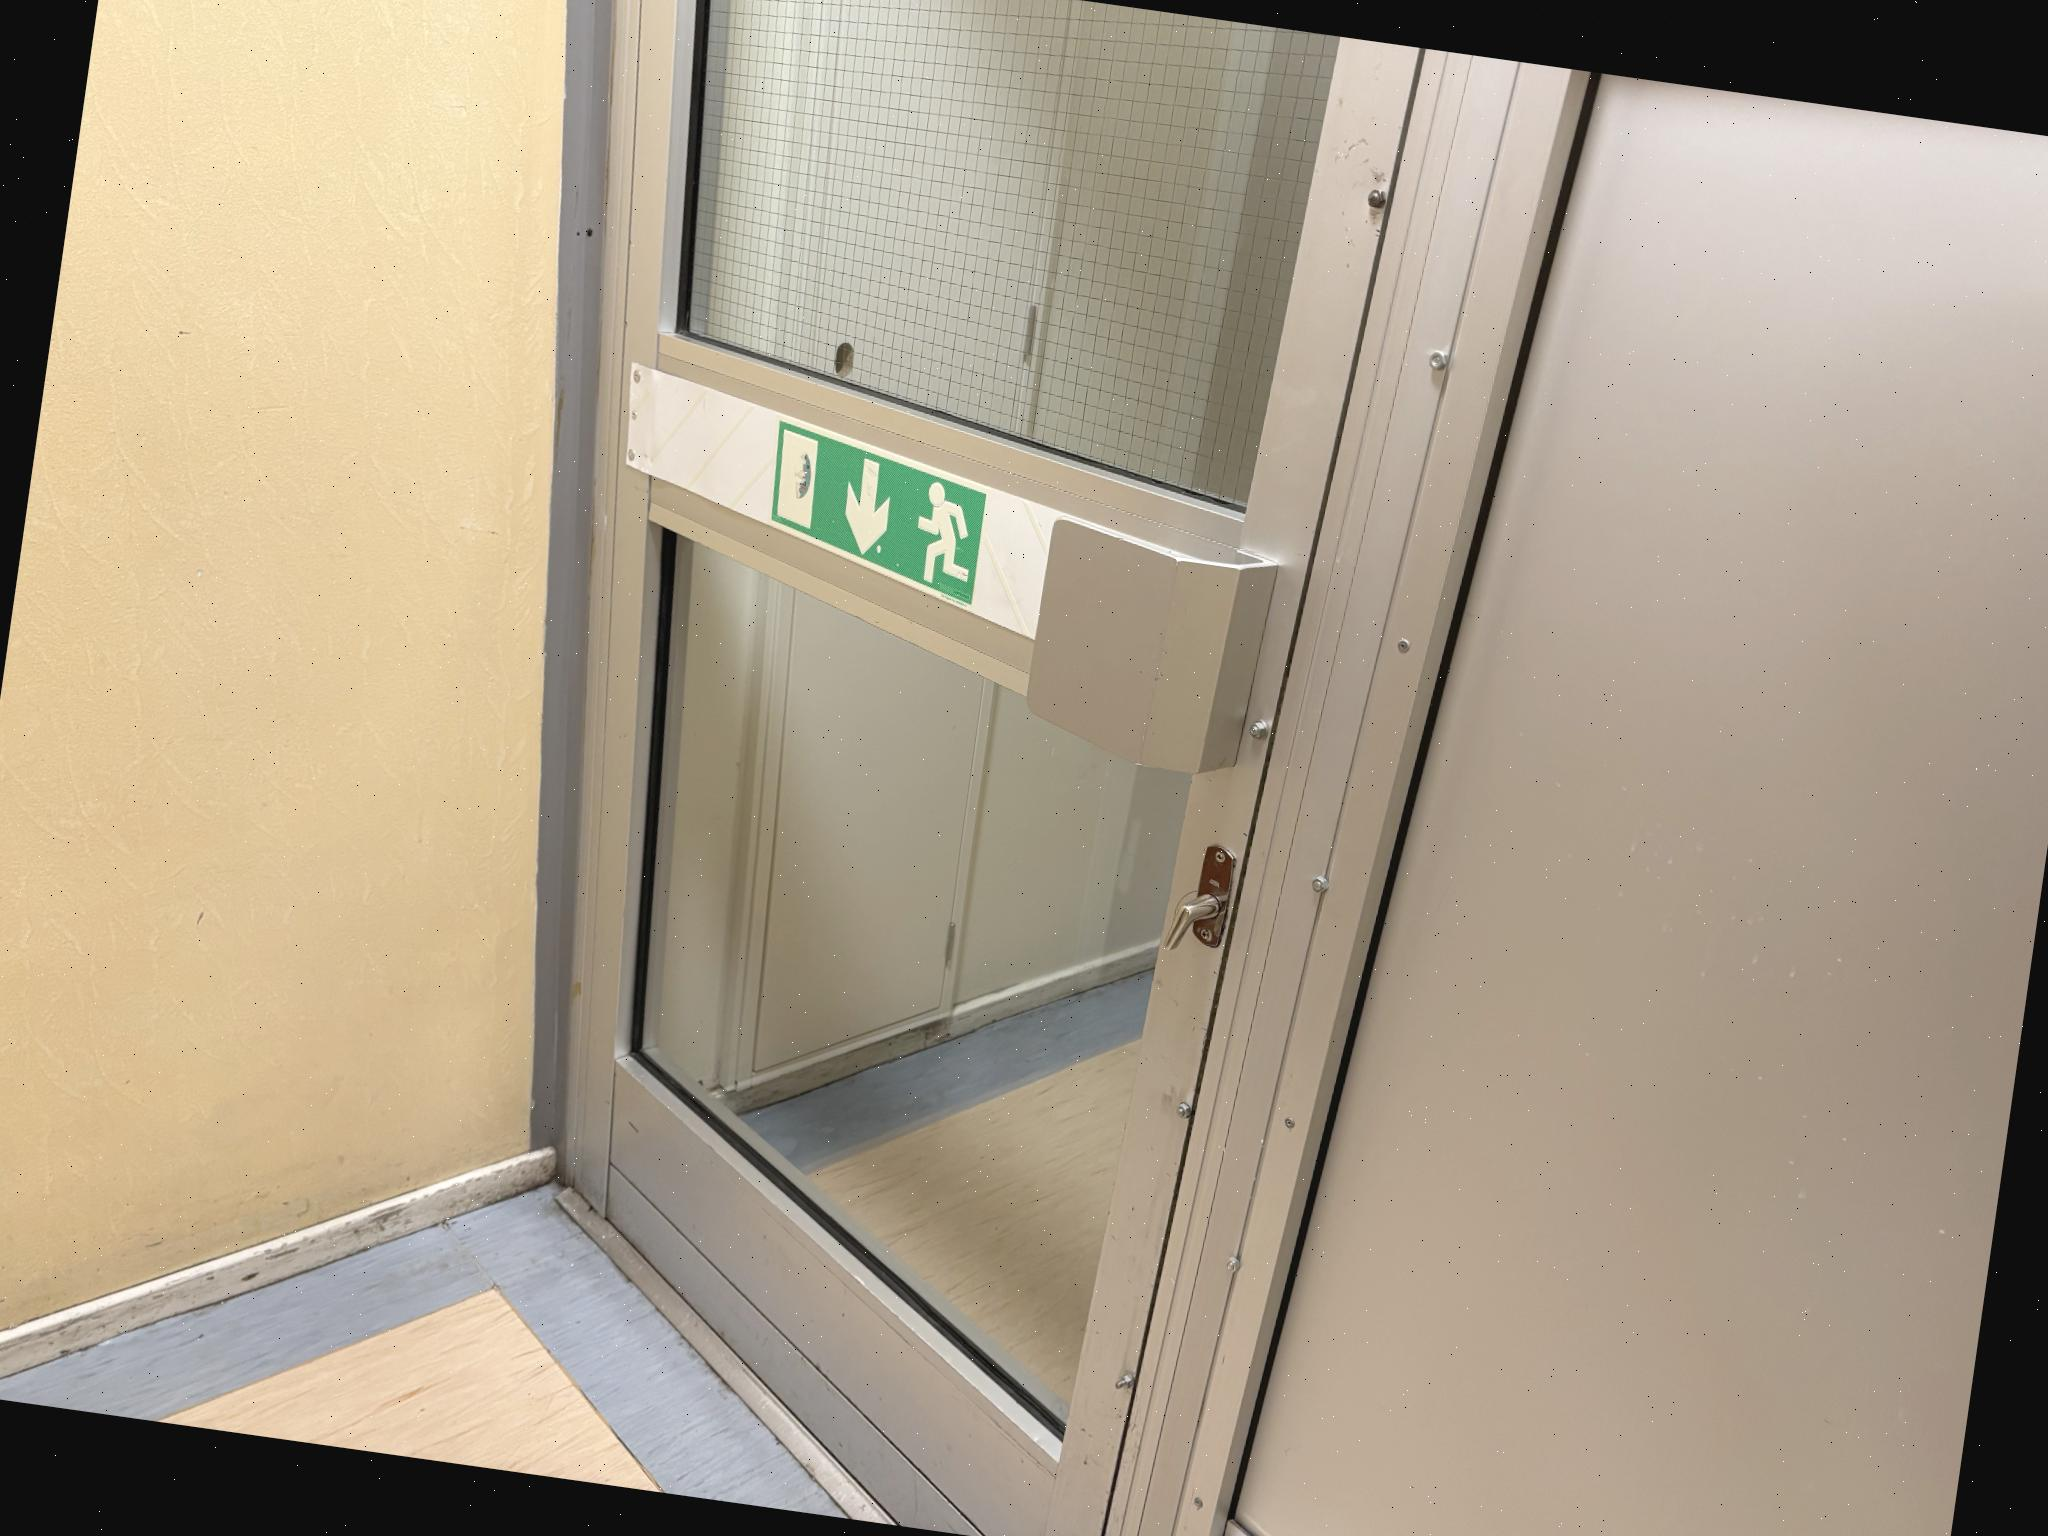exit_sign: (769, 424, 993, 587)
